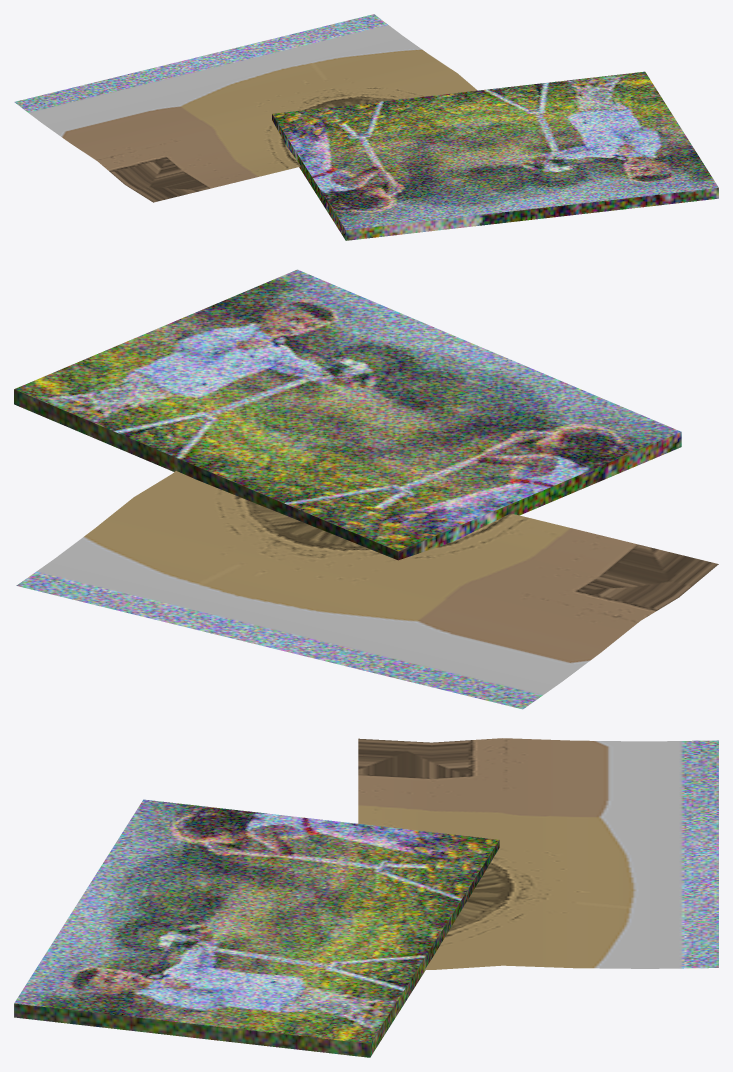
Rendered from SM_prop_Stage1_Paintings_02.fbx.
3 renders of one model, top to bottom at view 1: azimuth 30°, elevation 25°; view 2: azimuth 150°, elevation 25°; view 3: azimuth 270°, elevation 25°, orthographic. The views are drawn at different scales.
Parts seen in each view (by area): view 1: SM_prop_Stage1_Paintings_02; view 2: SM_prop_Stage1_Paintings_02; view 3: SM_prop_Stage1_Paintings_02.
Part boxes in pixels (box(x1,y1,x2,y2)): SM_prop_Stage1_Paintings_02: box(14, 14, 718, 240); SM_prop_Stage1_Paintings_02: box(14, 269, 718, 709); SM_prop_Stage1_Paintings_02: box(14, 738, 718, 1057).
Bounding box in the file's own units: 71.25 × 1.47 × 67.68.
1 material, 1 textured.
